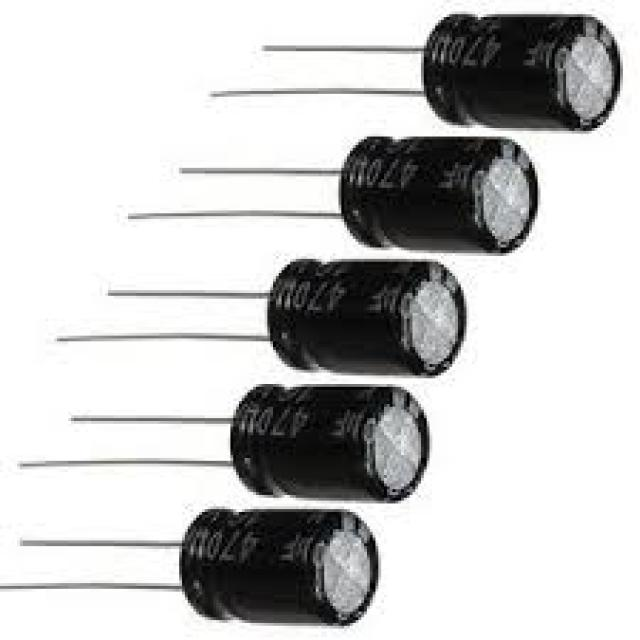Capacitor: (230, 384, 432, 506), (270, 259, 466, 381), (179, 509, 378, 629), (338, 137, 538, 256), (424, 14, 620, 134)
